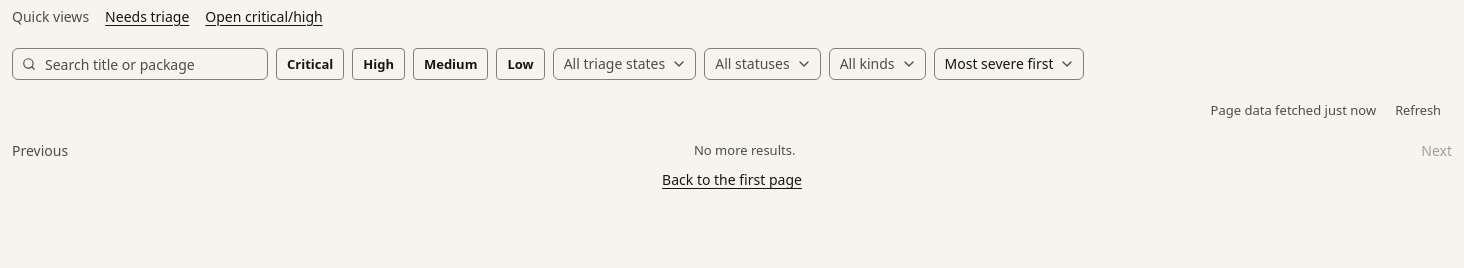
FindingsDashboard › does not claim the project is empty when the user paged past the last page
Check: the text "No more results." is shown, box x1=694 y1=141 x2=795 y2=160
Check: the button with aria-label "Next page" is disabled, box x1=1421 y1=140 x2=1452 y2=161
Step 1. Click the button with aria-label "Previous page" → click(40, 150), box x1=12 y1=140 x2=68 y2=161
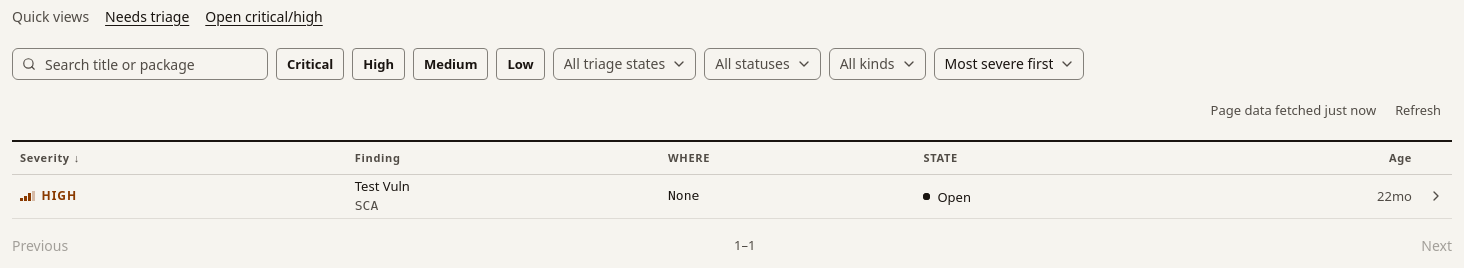
Check: the link "Test Vuln" is shown, box x1=355 y1=177 x2=410 y2=195
